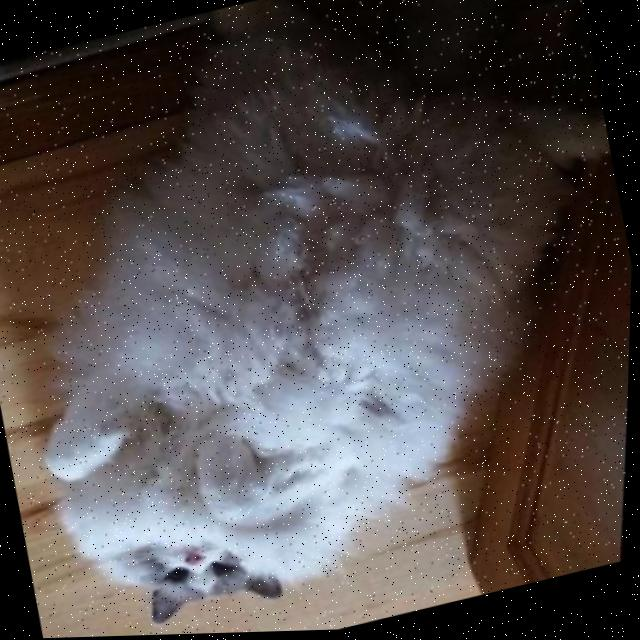Cats: (0, 0, 612, 640)
